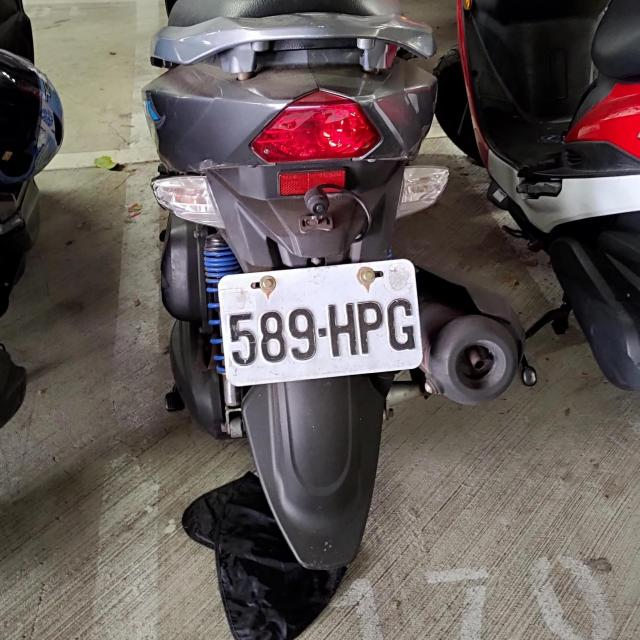W: (215, 258, 424, 384)
